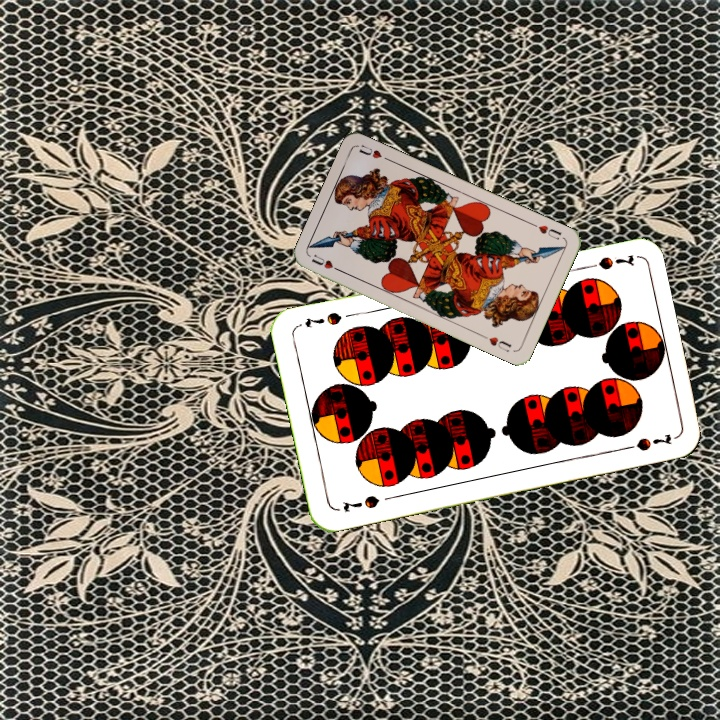HU: (307, 250, 345, 275), (528, 219, 564, 243)
S7: (578, 250, 637, 273), (338, 491, 382, 515)
